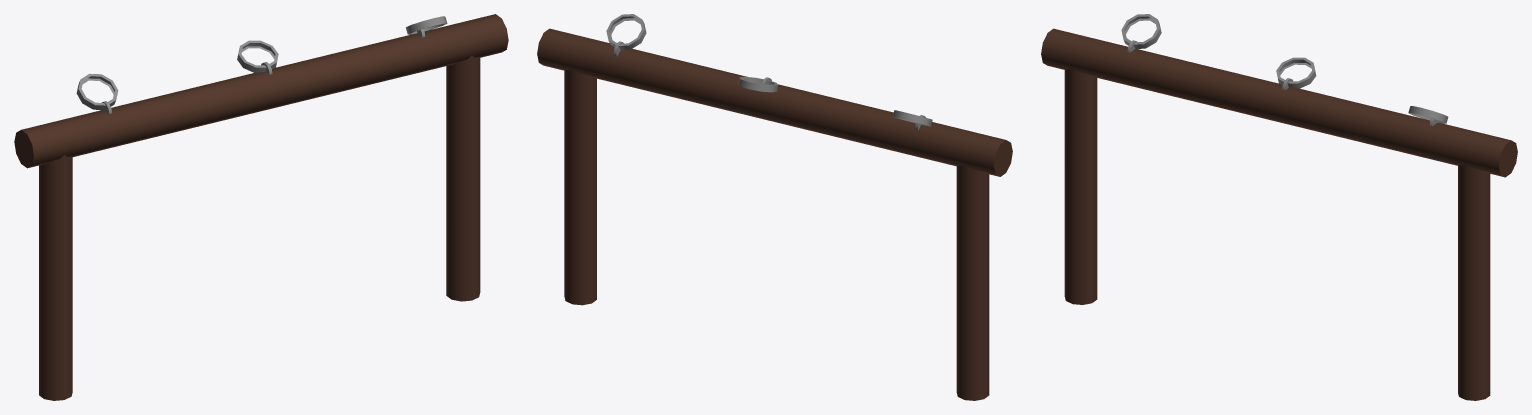
File: HorseThing.fbx
3 renders of one model, left to right at view 1: azimuth 30°, elevation 25°; view 2: azimuth 150°, elevation 25°; view 3: azimuth 330°, elevation 25°, orthographic. The views are drawn at different scales.
Parts seen in each view (by area): view 1: HorseThing; view 2: HorseThing; view 3: HorseThing.
Part boxes in pixels (x1,y1,x2,y2): HorseThing: (14,14,508,400); HorseThing: (537,14,1012,400); HorseThing: (1041,14,1517,400).
Bounding box in the file's own units: 181 × 108 × 23.84.
